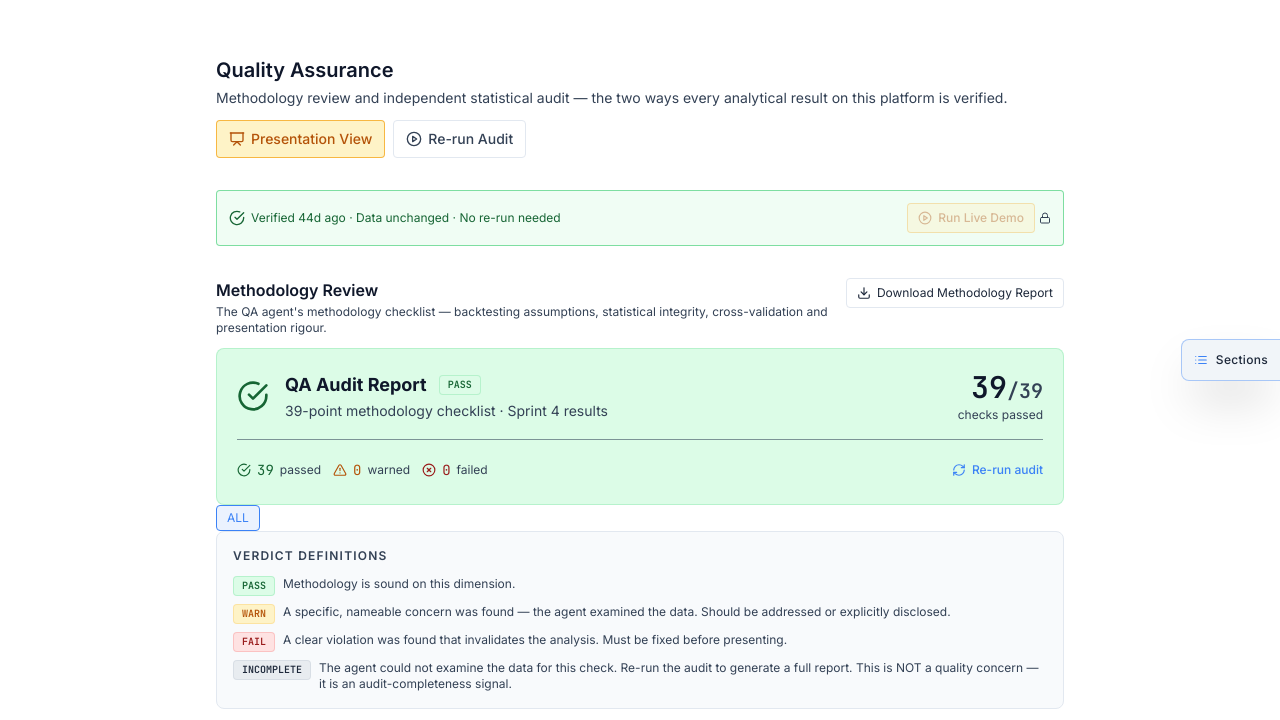
Test: QAHub — smart audit caching › opens a confirmation dialog before a Run Live Demo audit
Click the button "Run Live Demo". click: (971, 218)
box: x1=907 y1=203 x2=1035 y2=233
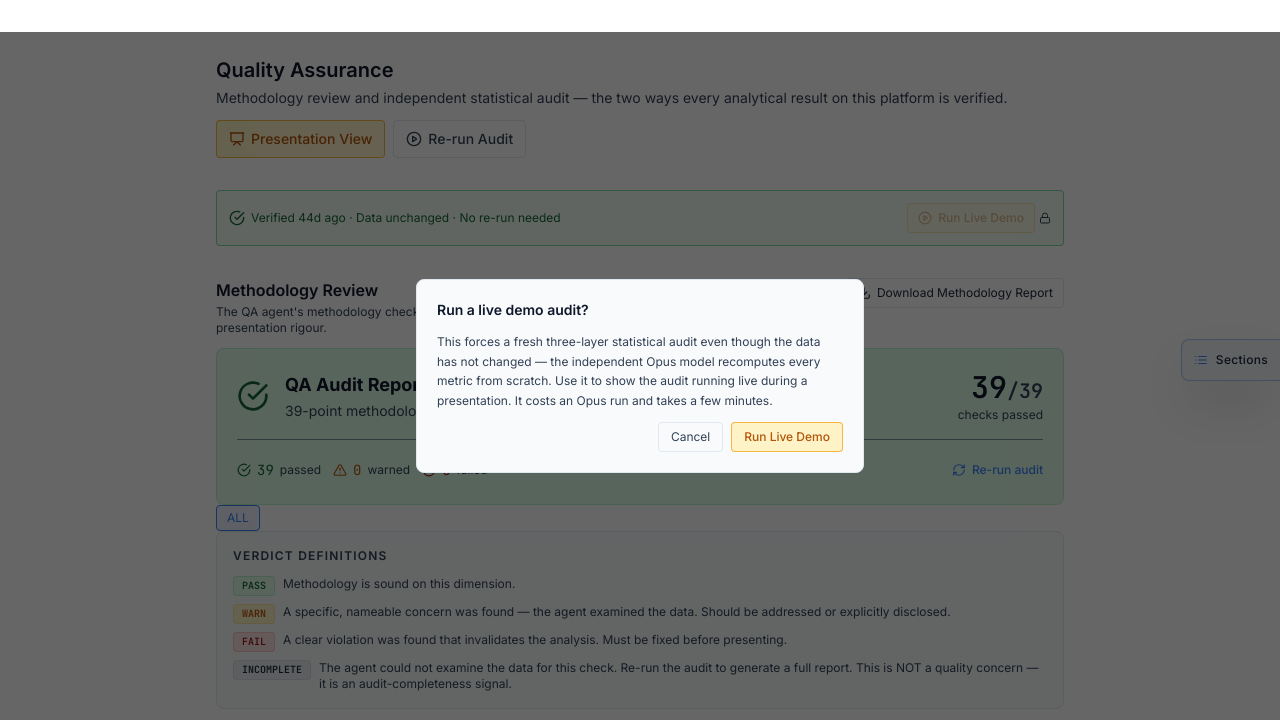
Expected: the heading "Run a live demo audit?" is shown, x1=437 y1=301 x2=589 y2=318
